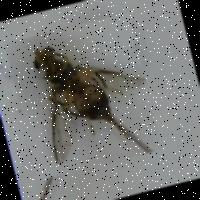Oriental-fruit-fly: (4, 12, 162, 180)
